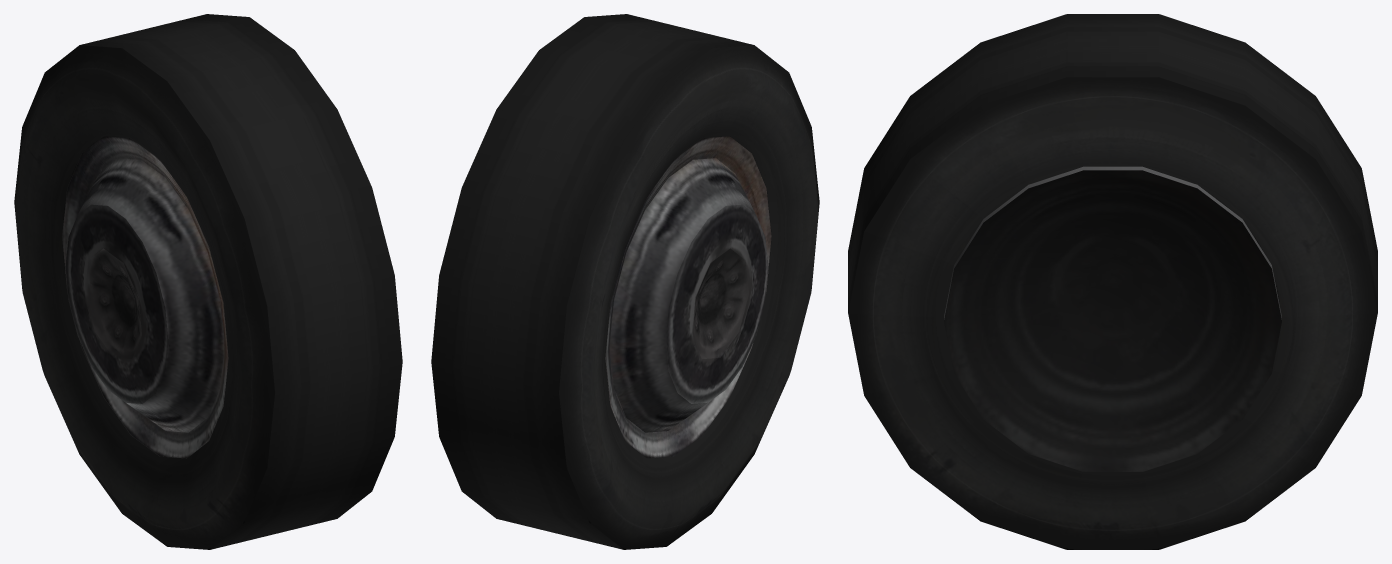
The model's file is right_tire_front.gltf.
3 views of the same model, side by side, from view 1: azimuth 30°, elevation 25°; view 2: azimuth 150°, elevation 25°; view 3: azimuth 270°, elevation 25° (orthographic).
Parts seen in each view (by area): view 1: wheels_tier_0, wheels_rim_0.015, wheels_rim_0, wheels_rim_0.014, wheels_rim_0.001; view 2: wheels_tier_0, wheels_rim_0.015, wheels_rim_0, wheels_rim_0.014, wheels_rim_0.001; view 3: wheels_tier_0, wheels_rim_0.002, wheels_rim_0.012.
Part boxes in pixels (box(x1,y1,x2,y2)): wheels_tier_0: box(14, 14, 402, 549); wheels_rim_0.015: box(78, 158, 224, 432); wheels_rim_0: box(65, 204, 168, 403); wheels_rim_0.014: box(62, 136, 228, 458); wheels_rim_0.001: box(85, 248, 141, 358); wheels_tier_0: box(431, 14, 819, 549); wheels_rim_0.015: box(609, 158, 755, 432); wheels_rim_0: box(665, 204, 768, 403); wheels_rim_0.014: box(605, 136, 771, 458); wheels_rim_0.001: box(692, 248, 748, 358); wheels_tier_0: box(848, 14, 1377, 549); wheels_rim_0.002: box(944, 170, 1281, 471); wheels_rim_0.012: box(944, 166, 1281, 319).
Size of the model in its own units: 0.2809 by 0.7177 by 0.7287.
2 materials, 2 textured.
